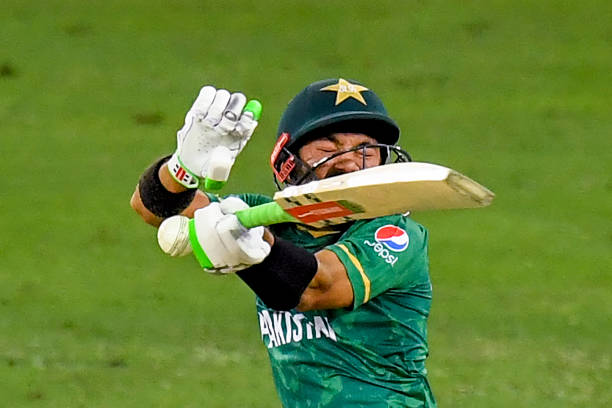bottom left: (433, 157, 462, 188)
bottom right: (469, 182, 507, 217)
top left: (264, 189, 298, 210)
top right: (296, 218, 328, 239)
